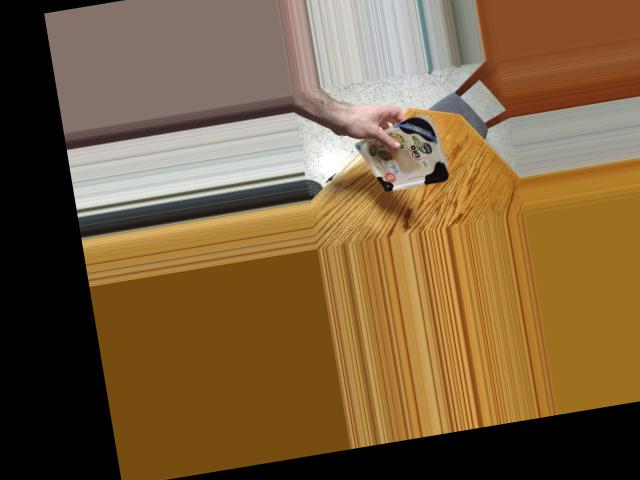cheese: (360, 123, 451, 187)
